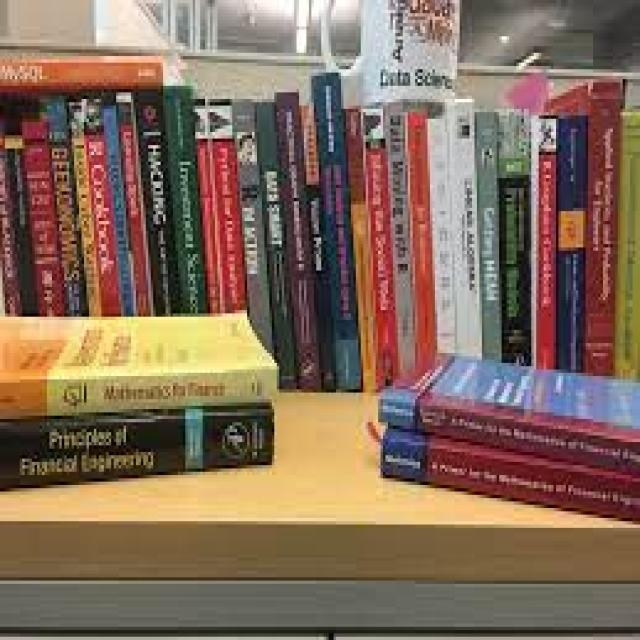book: (0, 289, 261, 419), (2, 398, 291, 507)
